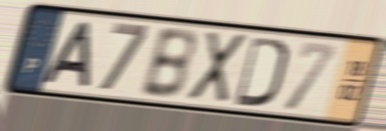7: (96, 19, 153, 95), (286, 39, 340, 113)
A: (40, 19, 95, 91)
B: (137, 26, 198, 102)
D: (232, 33, 291, 110)
X: (186, 29, 250, 105)
